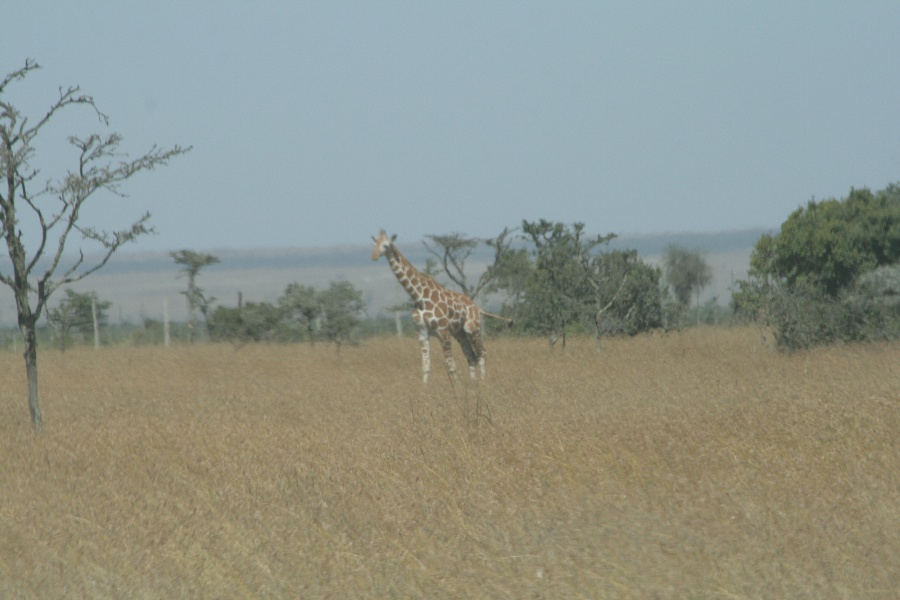giraffe: (358, 220, 516, 383)
